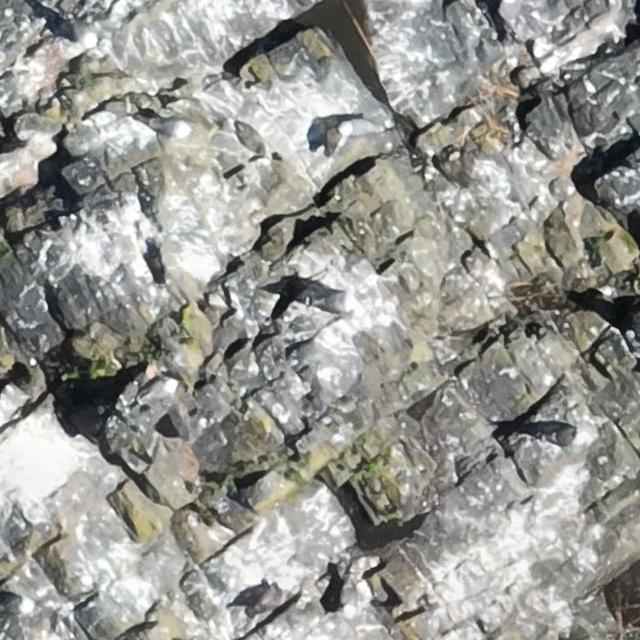umineko: (147, 115, 195, 142), (315, 290, 357, 315), (70, 18, 99, 51), (142, 377, 178, 402), (340, 572, 358, 621), (338, 116, 384, 135), (545, 429, 577, 446), (3, 595, 30, 611)
